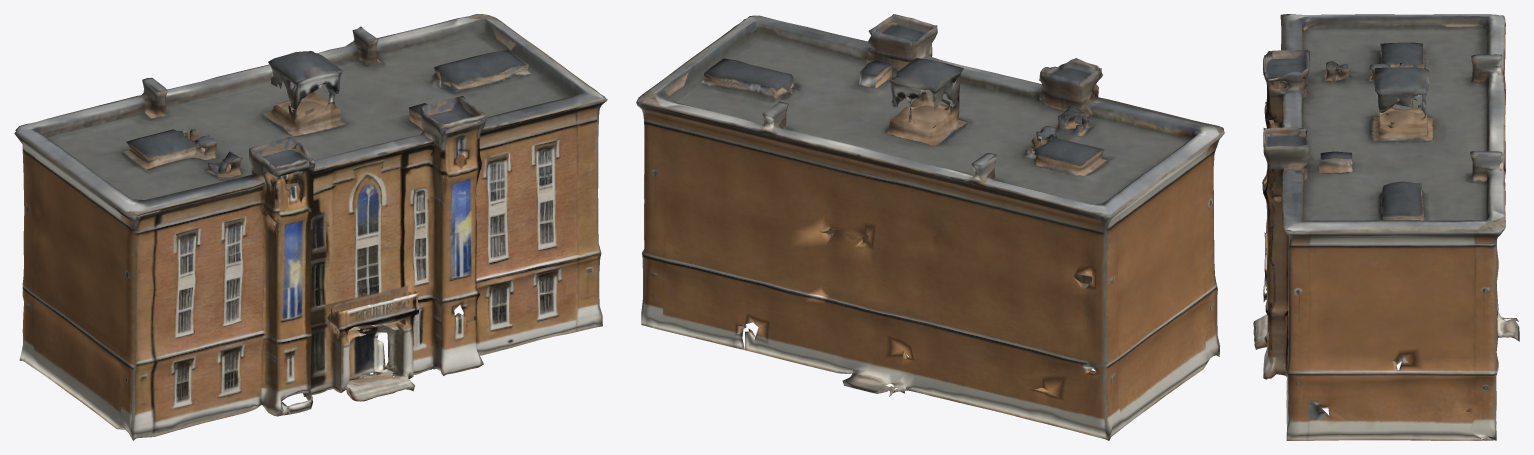
File: Old_Main.glb
3 views of the same model, side by side, from view 1: azimuth 30°, elevation 25°; view 2: azimuth 150°, elevation 25°; view 3: azimuth 270°, elevation 25° (orthographic). The views are drawn at different scales.
Parts seen in each view (by area): view 1: Mesh_0; view 2: Mesh_0; view 3: Mesh_0.
Part boxes in pixels (<box>): Mesh_0: <box>14,14,607,440</box>; Mesh_0: <box>636,14,1224,440</box>; Mesh_0: <box>1253,14,1519,440</box>.
Size of the model in its own units: 2.01 by 1.14 by 1.03.
Materials: 1 (1 with a texture image).
